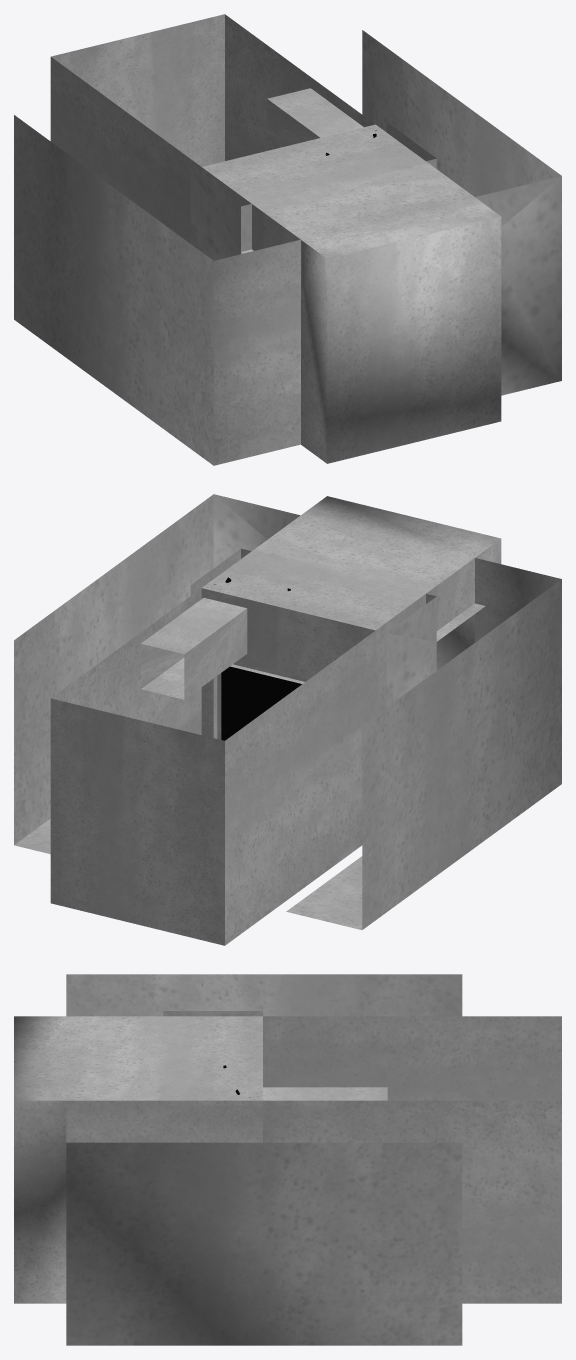
File: low-office.fbx
3 renders of one model, top to bottom at view 1: azimuth 30°, elevation 25°; view 2: azimuth 150°, elevation 25°; view 3: azimuth 270°, elevation 25°, orthographic.
Parts seen in each view (by area): view 1: office; view 2: office; view 3: office.
Part boxes in pixels (x1=…): office: x1=14, y1=14, x2=561, y2=465; office: x1=14, y1=494, x2=561, y2=945; office: x1=14, y1=974, x2=561, y2=1345.
Size of the model in its own units: 1600 by 917 by 2200.
1 material, 1 textured.
